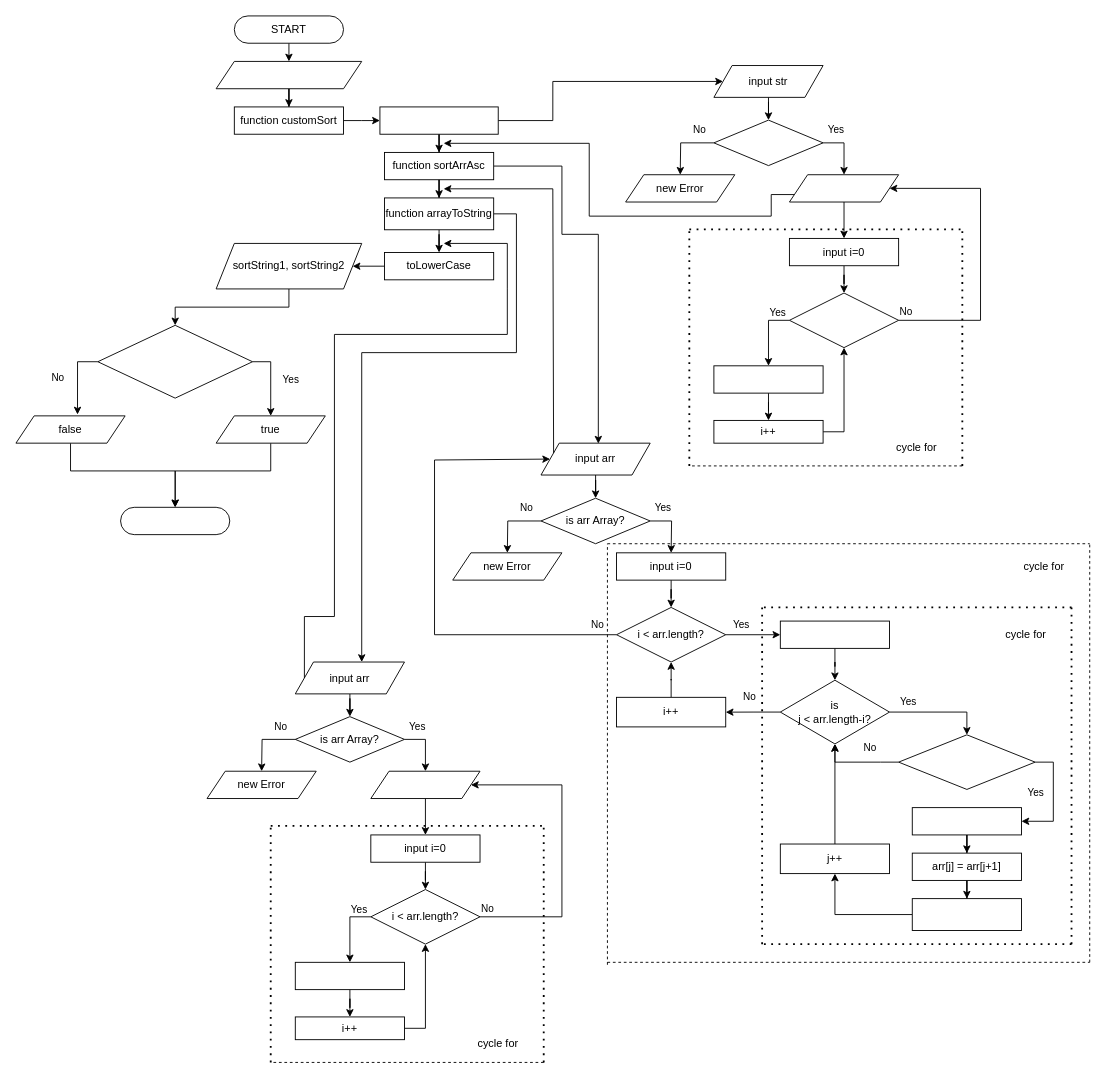
The diagram is 1107 pixels wide and 1080 high, and some of its shapes have lost their labels. Each missing label, with the centre of its shape:
"add arr[i] to resultString" belongs at point (349, 975).
"add str[i] to resultArr" belongs at point (768, 379).
"arr[j+1] = swap" belongs at point (966, 914).
"END" belongs at point (175, 520).
"function stringToArr" belongs at point (438, 120).
"i < str.length?" belongs at point (844, 320).
"input j=0" belongs at point (834, 634).
"input string1, string2" belongs at point (288, 75).
"is arr[j] >arr[j+1]?" belongs at point (966, 761).
"is str String?" belongs at point (768, 142).
"resultArr" belongs at point (844, 188).
"resultString" belongs at point (425, 784).
"sortString1 === sortString2" belongs at point (175, 361).
"swap = arr [j]" belongs at point (966, 821).
